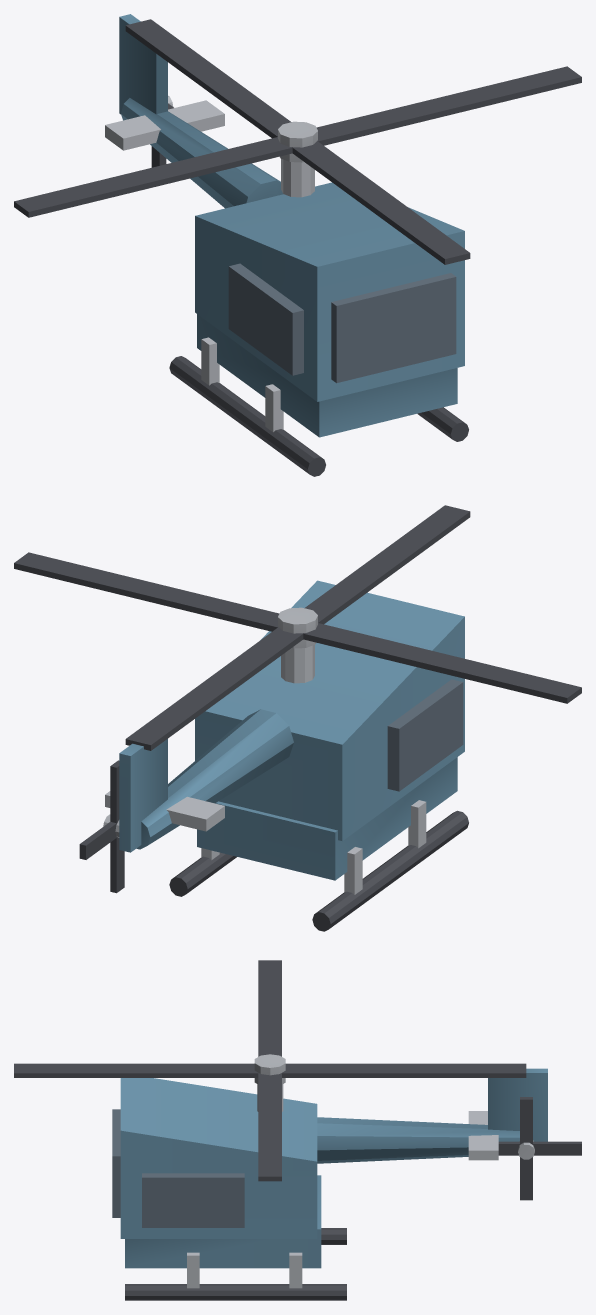
Rendered from veh_heli.glb.
3 renders of one model, top to bottom at view 1: azimuth 30°, elevation 25°; view 2: azimuth 150°, elevation 25°; view 3: azimuth 270°, elevation 25°, orthographic. The views are drawn at different scales.
Visible parts, largest first — view 1: veh_heli, veh_heli_rotor; view 2: veh_heli, veh_heli_rotor, veh_heli_tail_rotor; view 3: veh_heli, veh_heli_rotor, veh_heli_tail_rotor.
Part boxes in pixels (x1,y1,x2,y2): veh_heli: [105, 14, 468, 476]; veh_heli_rotor: [14, 19, 581, 264]; veh_heli: [105, 580, 468, 931]; veh_heli_rotor: [14, 505, 581, 750]; veh_heli_tail_rotor: [79, 760, 124, 893]; veh_heli: [112, 1068, 547, 1300]; veh_heli_rotor: [14, 960, 526, 1181]; veh_heli_tail_rotor: [498, 1097, 581, 1200].
Size of the model in its own units: 1.2 by 0.544 by 1.33.
